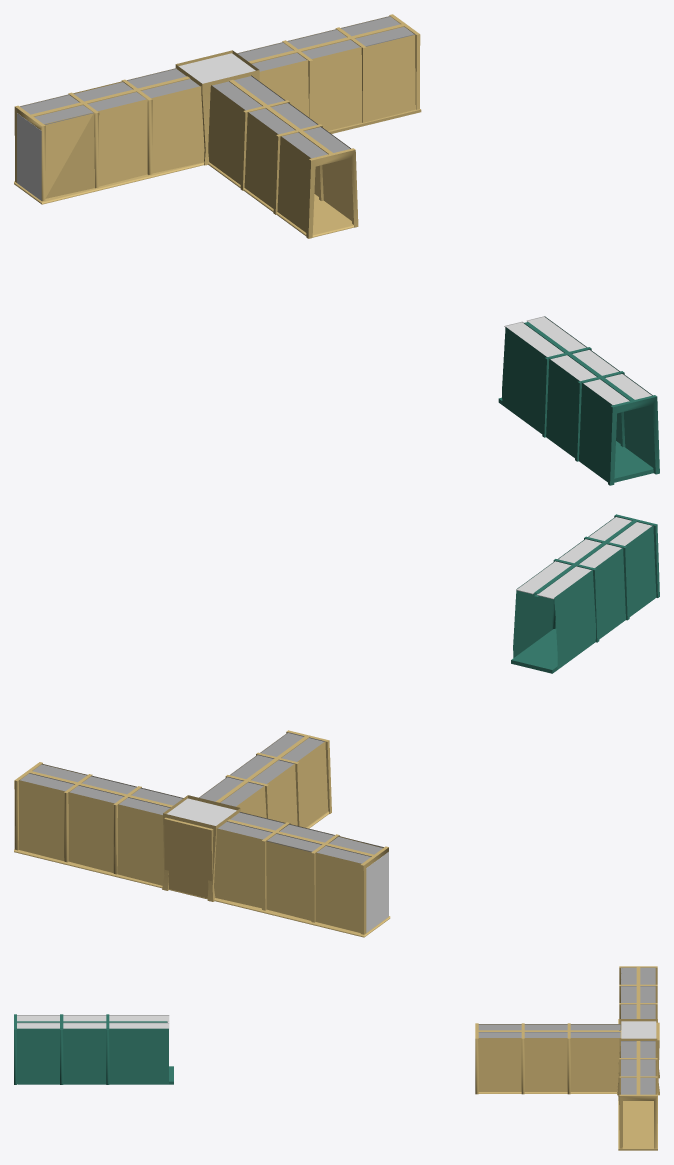
Rendered from Gallery_Object.fbx.
The picture shows the model from 3 angles, top to bottom: view 1: azimuth 30°, elevation 25°; view 2: azimuth 150°, elevation 25°; view 3: azimuth 270°, elevation 25°; orthographic projection. The views are drawn at different scales.
Visible parts, largest first — view 1: Concrete_Bare, celling, Concrete_Bare1, Concrete_Simple, celling1, Concrete_Simple1, floor, Window_gan, pCube10, pCube8; view 2: Concrete_Bare, Concrete_Bare1, celling, Concrete_Simple, pCube9, celling1, Concrete_Simple1, Window_gan, floor, pCube8, pCube10; view 3: Concrete_Bare1, Concrete_Bare, celling, Concrete_Simple, celling1, floor, Concrete_Simple1, pCube10.
Part boxes in pixels (x1,y1,x2,y2): Concrete_Bare: (20,16,415,232); celling: (20,16,415,158); Concrete_Bare1: (502,316,653,481); Concrete_Simple: (14,14,420,238); celling1: (504,316,651,404); Concrete_Simple1: (524,322,659,485); floor: (14,109,421,237); Window_gan: (17,113,41,200); pCube10: (178,53,255,83); pCube8: (498,397,653,482); Concrete_Bare: (18,732,383,932); Concrete_Bare1: (513,516,656,669); celling: (20,732,383,863); Concrete_Simple: (14,730,388,934); pCube9: (164,817,213,898); celling1: (516,517,652,599); Concrete_Simple1: (534,514,659,642); Window_gan: (366,852,388,932); floor: (14,811,390,937); pCube8: (511,600,652,673); pCube10: (167,798,236,825); Concrete_Bare1: (16,1021,168,1084); Concrete_Bare: (478,973,656,1104); celling: (478,967,655,1094); Concrete_Simple: (475,966,659,1148); celling1: (17,1015,169,1028); floor: (478,1019,657,1150); Concrete_Simple1: (14,1014,166,1084); pCube10: (621,1021,656,1038).
Size of the model in its own units: 709 by 146 by 1489.
